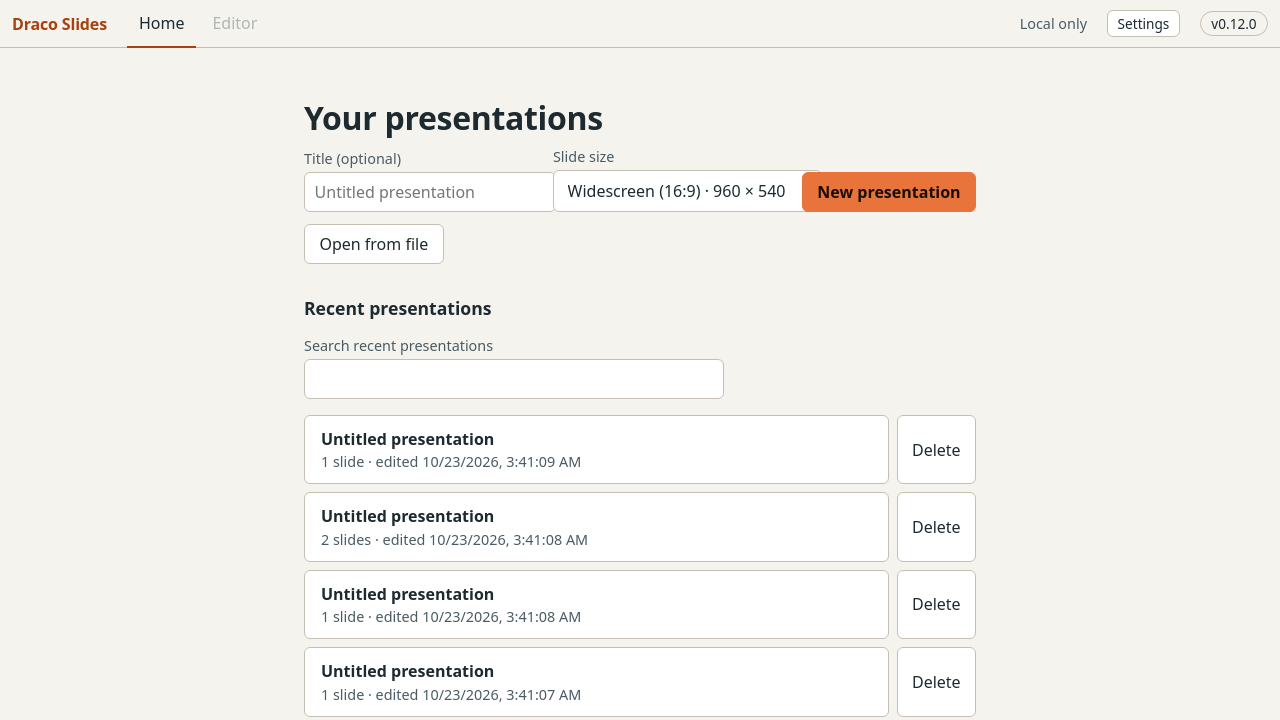
Scenario: Editor layout › File > Properties edits and keeps the author
Click the button "New presentation". click: [889, 192]
box: [802,172,976,212]
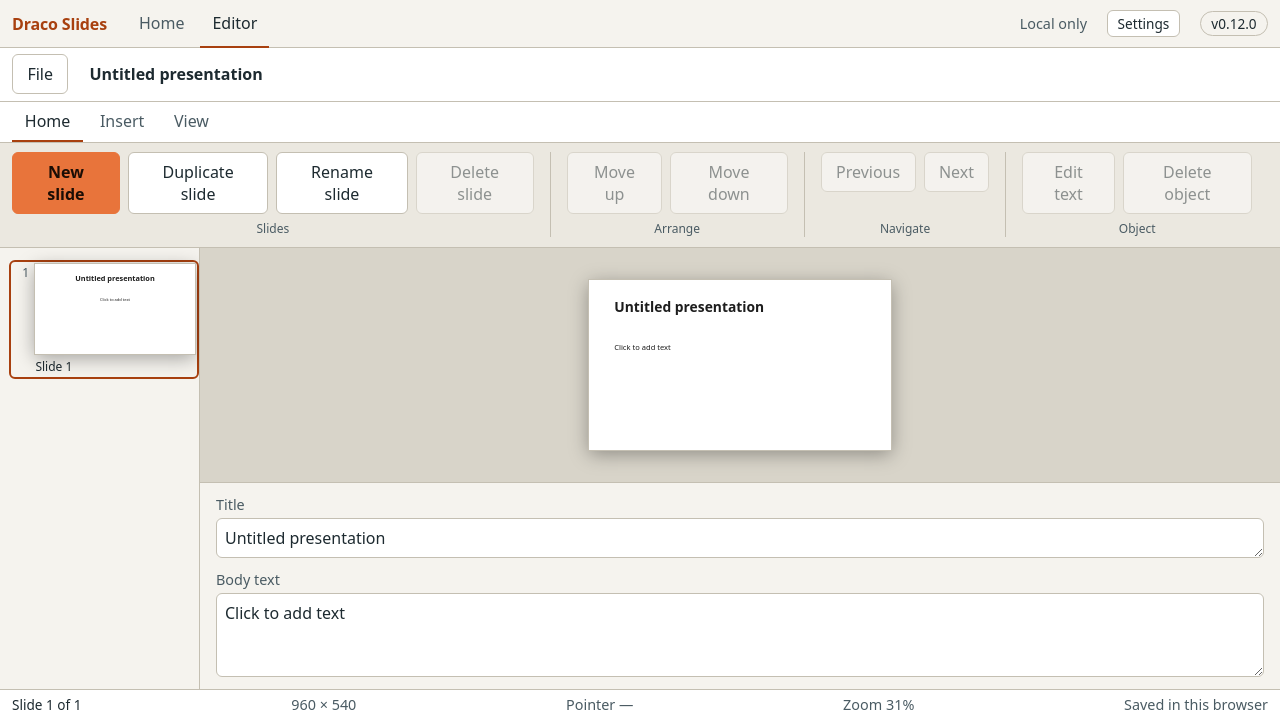
Click the button "File". click: [40, 74]
box: [12,54,68,94]
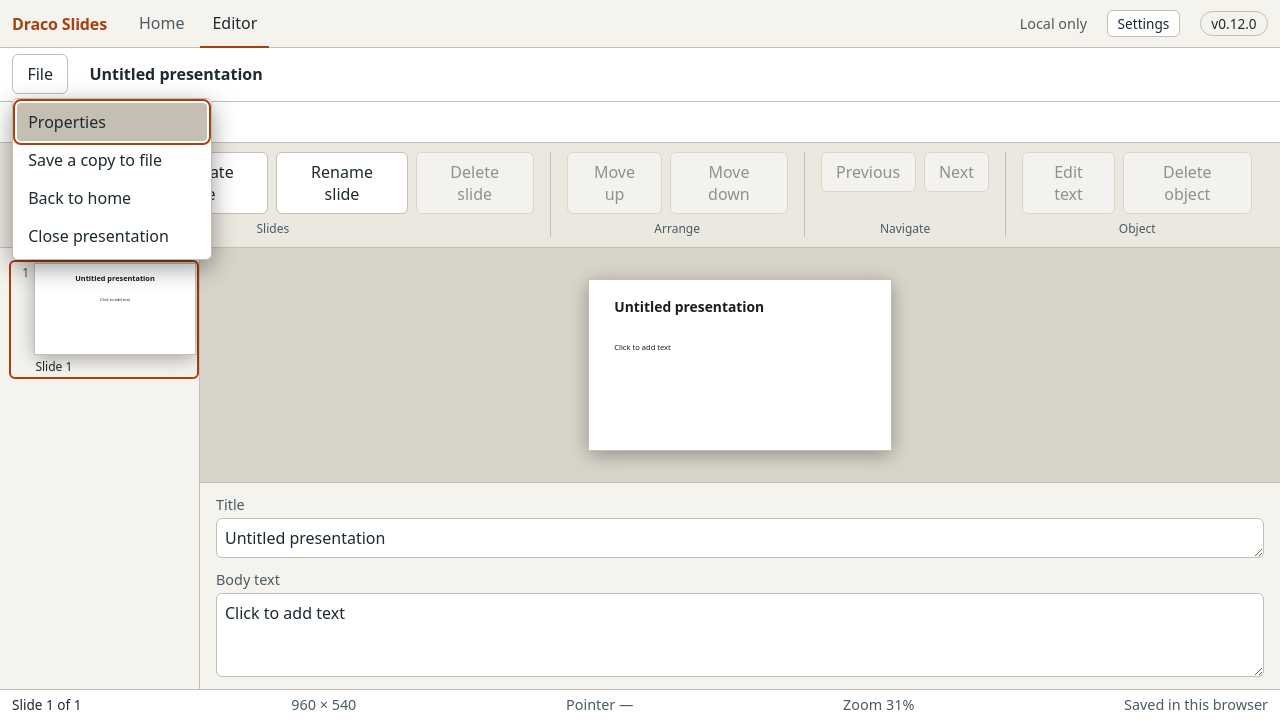
Click the menu item "Properties". click: [112, 122]
box: [17,103,207,141]
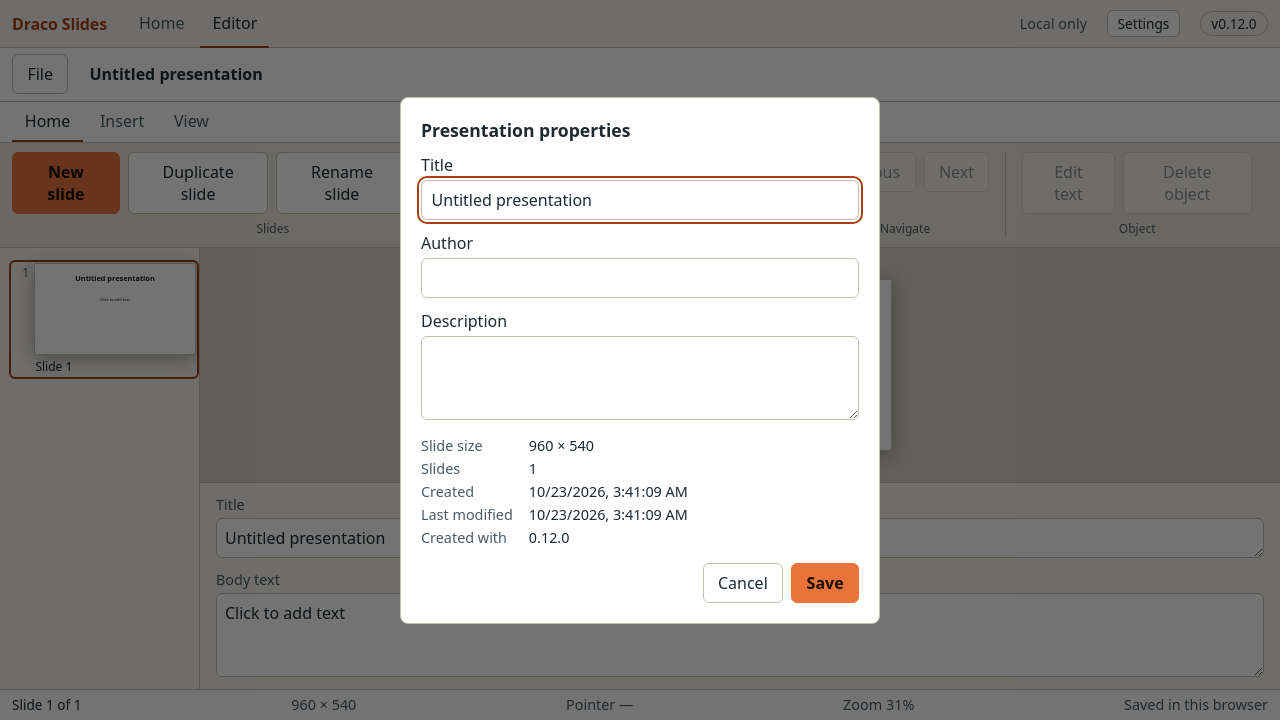
Type "Ana" into the field labelled "Author". click: [640, 278]
box: [421,258,859,298]
Click the button "Save". click: [825, 582]
box: [791,562,859,602]
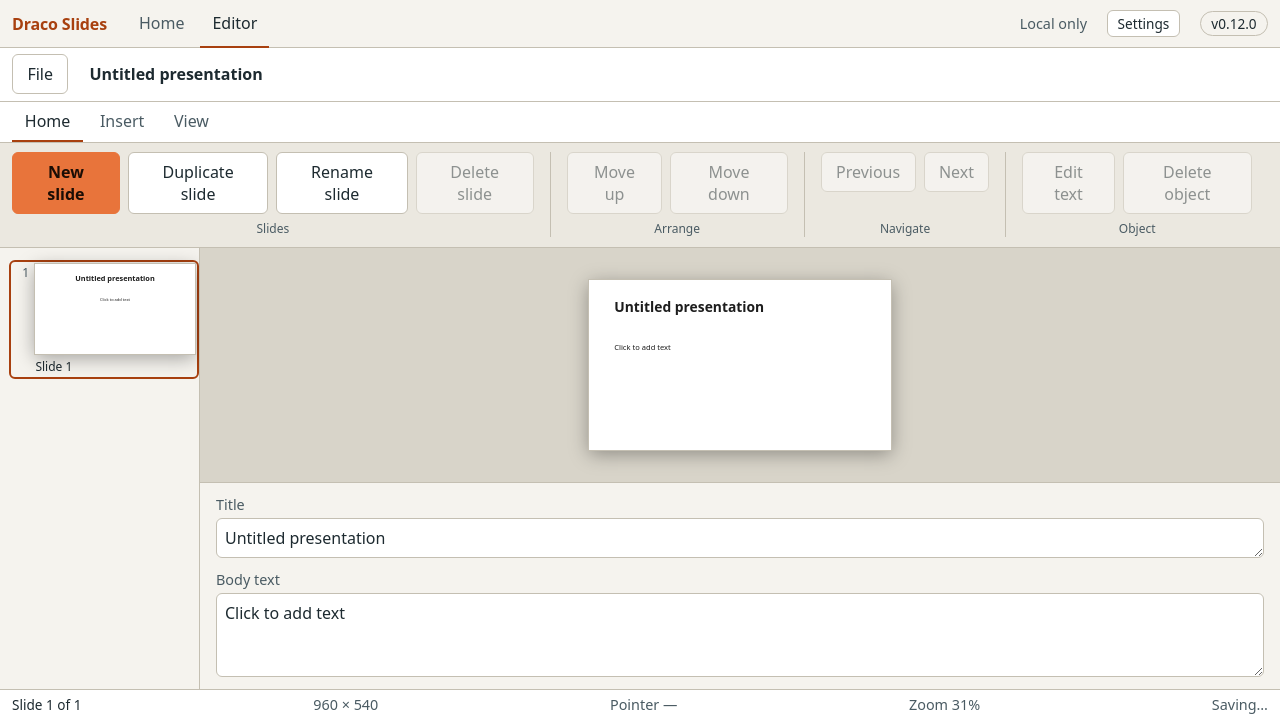
Expected: the dialog is gone
Click the button "File". click: [40, 74]
box: [12,54,68,94]
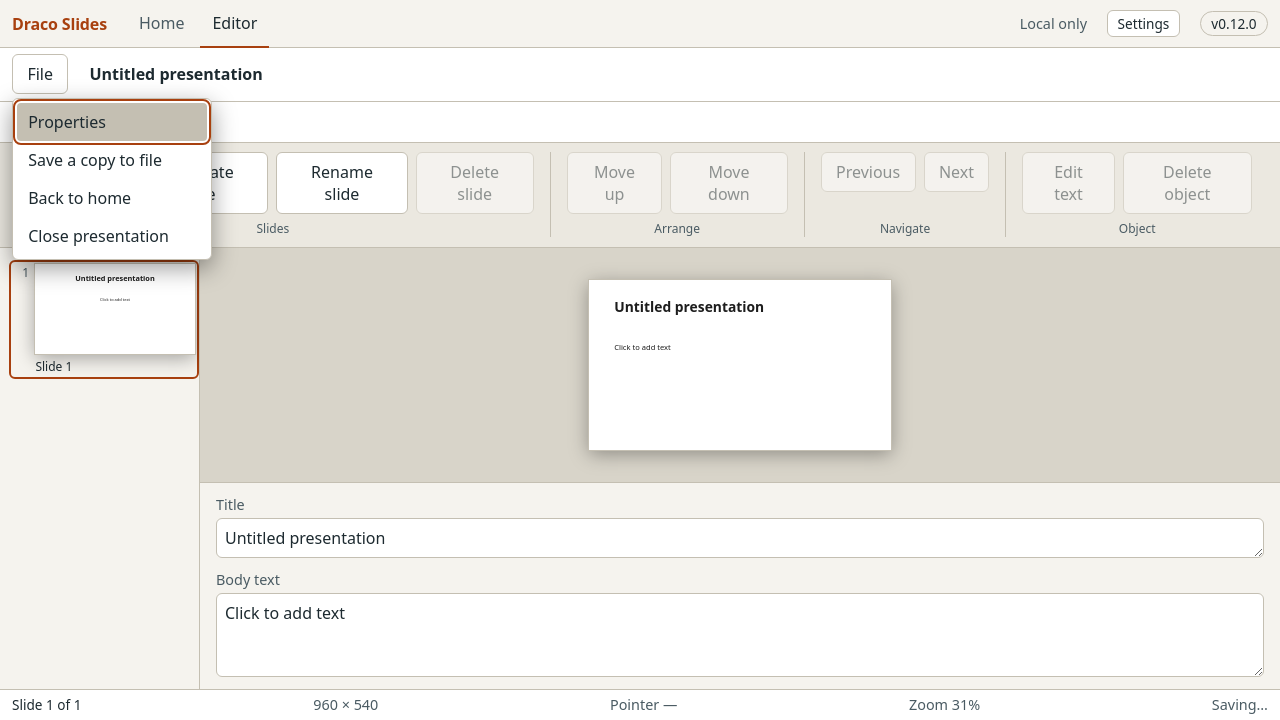
Click the menu item "Properties". click: [112, 122]
box: [17,103,207,141]
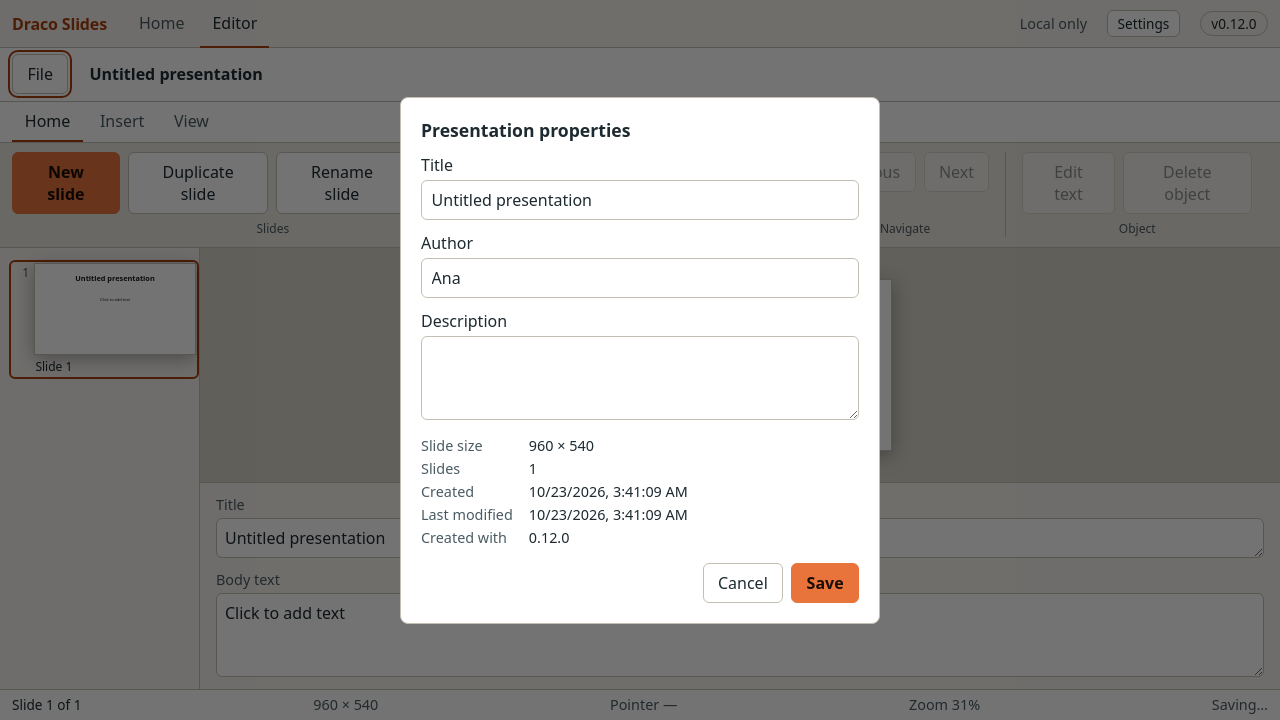
Expected: the field labelled "Author" holds "Ana", [421,258,859,298]
Expected: the text "960 × 540" is shown, [529,436,594,454]
